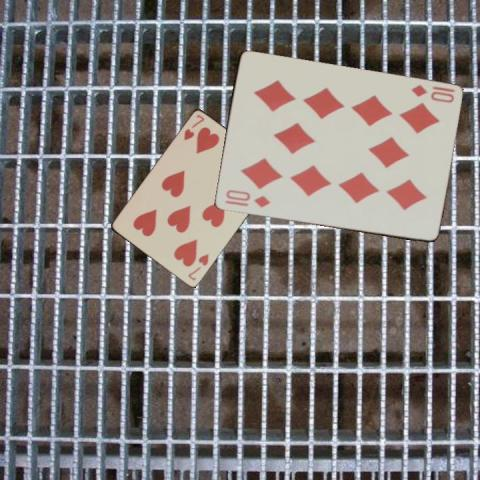10d: (221, 187, 272, 209), (408, 82, 455, 105)
7h: (185, 251, 210, 282), (181, 112, 206, 142)
